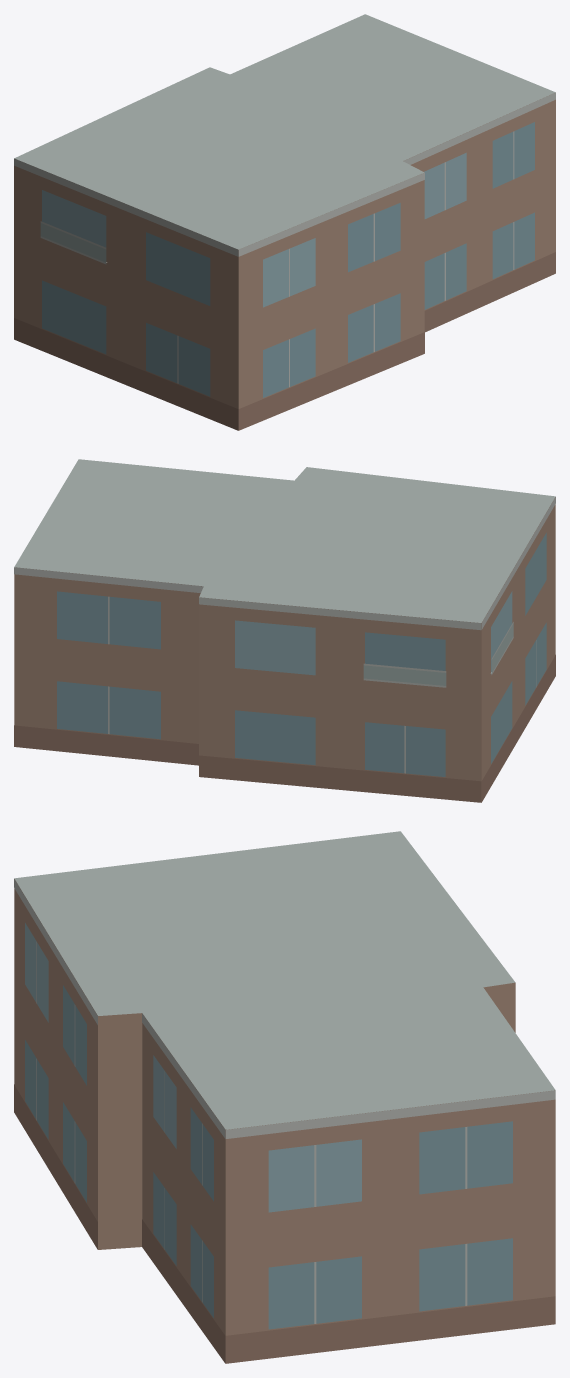
Rendered from survey-upis-32661292.glb.
3 renders of one model, top to bottom at view 1: azimuth 30°, elevation 25°; view 2: azimuth 150°, elevation 25°; view 3: azimuth 270°, elevation 25°, orthographic. The views are drawn at different scales.
Parts seen in each view (by area): view 1: survey-upis-32661292.tmp; view 2: survey-upis-32661292.tmp; view 3: survey-upis-32661292.tmp.
Part boxes in pixels (x1,y1,x2,y2): survey-upis-32661292.tmp: [14, 14, 555, 430]; survey-upis-32661292.tmp: [14, 459, 555, 802]; survey-upis-32661292.tmp: [14, 831, 555, 1363].
Size of the model in its own units: 16.71 by 6.1 by 12.81.
